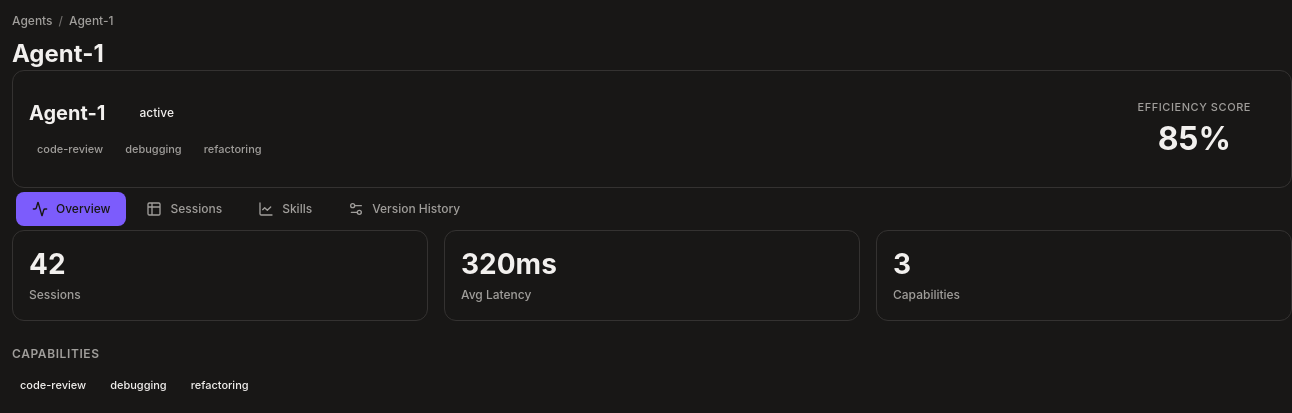
Test: AgentDetailPage › switches to Sessions tab and shows session table
Click the Sessions tab button
Click the tab "Sessions": (184, 209) x1=130 y1=192 x2=238 y2=226
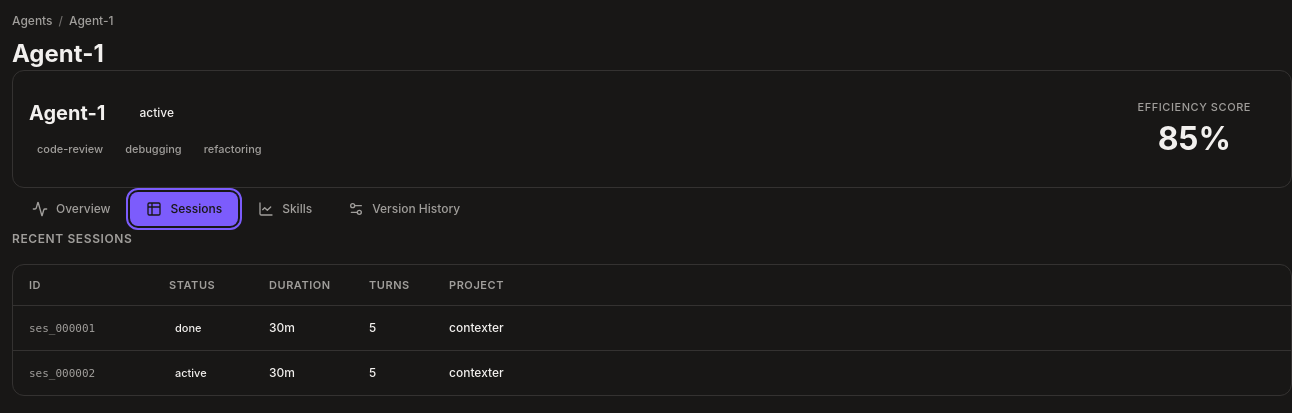
Check: the heading "Recent Sessions" is shown, box x1=12 y1=231 x2=132 y2=246
